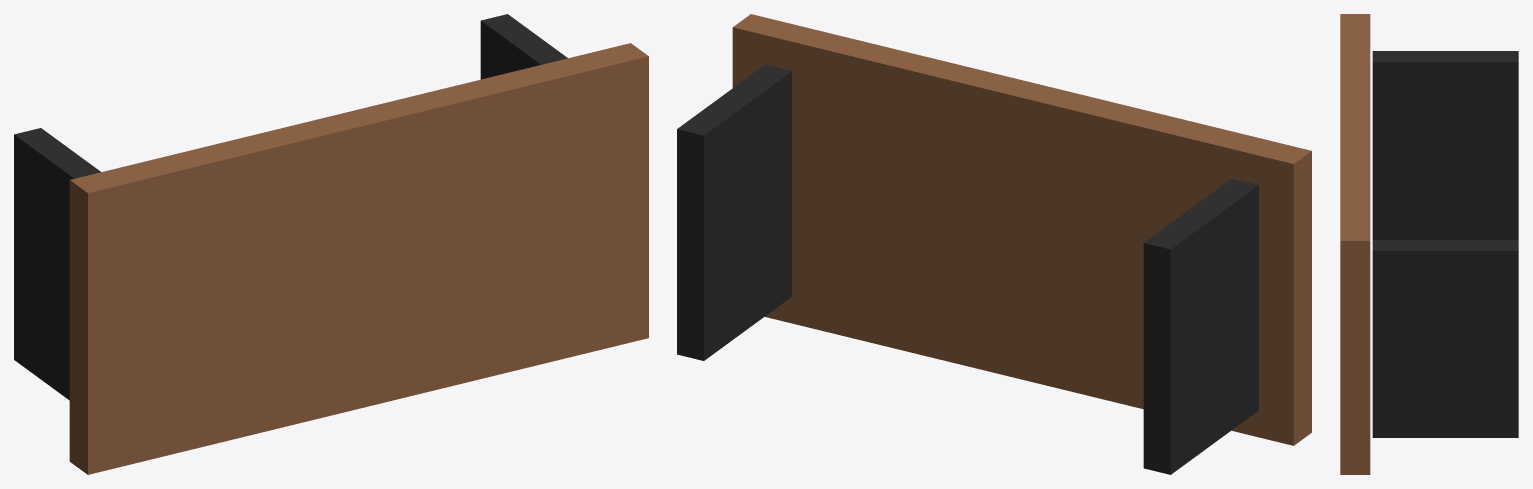
The model's file is gallery015_low_table.glb.
3 renders of one model, left to right at view 1: azimuth 30°, elevation 25°; view 2: azimuth 150°, elevation 25°; view 3: azimuth 270°, elevation 25°, orthographic. The views are drawn at different scales.
Visible parts, largest first — view 1: Top, Base-0.52, Base0.52; view 2: Top, Base-0.52, Base0.52; view 3: Base0.52, Base-0.52, Top.
Boxes of the visible parts, box(x1,y1,x2,y2) form: Top: box(69, 43, 648, 474); Base-0.52: box(14, 128, 100, 400); Base0.52: box(480, 14, 567, 79); Top: box(732, 14, 1311, 445); Base-0.52: box(1143, 178, 1258, 474); Base0.52: box(677, 64, 791, 360); Base0.52: box(1372, 240, 1518, 437); Base-0.52: box(1372, 51, 1518, 239); Top: box(1340, 14, 1370, 474).
Bounding box in the file's own units: 1.25 × 0.6 × 0.415.
